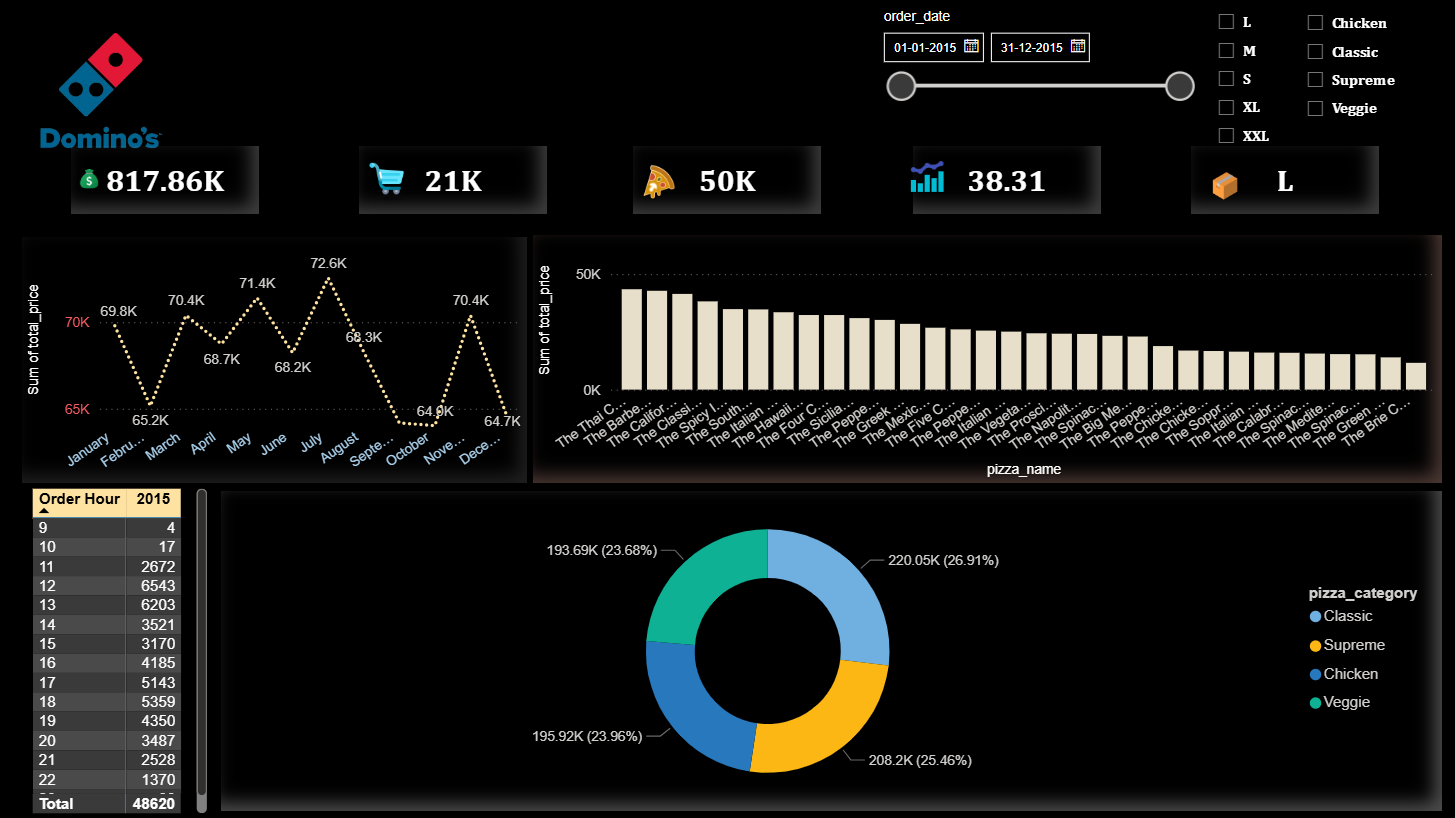

The dashboard page shown, as its layout file describes it:
{"tool":"powerbi","page":{"name":"Page 1","canvas":[1280,720],"ordinal":0},"visuals":[{"type":"image","box":[0,0,180.9,164.2],"z":0},{"type":"slicer","fields":{"Values":["pizza_sales (1).pizza_category"]},"box":[1137.1,3.5,121.2,122],"z":1000},{"type":"slicer","fields":{"Values":["pizza_sales (1).order_date"]},"box":[764.8,3.5,294.1,94.8],"z":2000},{"type":"slicer","fields":{"Values":["pizza_sales (1).pizza_size"]},"box":[1058.9,2.6,78.1,135.2],"z":3000},{"type":"card","fields":{"Values":["pizza_sales (1).Total Sales"]},"box":[64.1,129.1,165.1,59.7],"z":4000},{"type":"image","box":[64.1,140.5,31.6,36.9],"z":5000},{"type":"card","fields":{"Values":["pizza_sales (1).Total Orders"]},"box":[317,129.1,165.1,59.7],"z":6000},{"type":"card","fields":{"Values":["pizza_sales (1).Total Pizzas Sold"]},"box":[557.6,129.1,165.1,59.7],"z":7000},{"type":"card","fields":{"Values":["pizza_sales (1).Avg Order Value"]},"box":[803.4,129.1,165.1,59.7],"z":8000},{"type":"card","fields":{"Values":["pizza_sales (1).Most Popular Size"]},"box":[1047.5,129.1,165.1,59.7],"z":9000},{"type":"image","box":[317,136.1,50.9,45.7],"z":10000},{"type":"image","box":[557.6,137.9,44.8,43.9],"z":11000},{"type":"image","box":[792.9,130.8,45.7,50.9],"z":12000},{"type":"image","box":[1055.4,144,43,39.5],"z":13000},{"type":"lineChart","fields":{"Category":["pizza_sales (1).order_date.Variation.Date Hierarchy.Month"],"Y":["Sum(pizza_sales (1).total_price)"]},"box":[21.1,209,442.5,216],"z":14000},{"type":"columnChart","fields":{"Category":["pizza_sales (1).pizza_name"],"Y":["Sum(pizza_sales (1).total_price)"]},"box":[469.8,207.2,798.1,217.8],"z":15000},{"type":"pivotTable","fields":{"Values":["CountNonNull(pizza_sales (1).order_id)"],"Rows":["pizza_sales (1).Order Hour"],"Columns":["pizza_sales (1).order_date.Variation.Date Hierarchy.Year"]},"box":[25.5,425,163.3,295],"z":16000},{"type":"donutChart","fields":{"Category":["pizza_sales (1).pizza_category"],"Y":["Sum(pizza_sales (1).total_price)"]},"box":[195.8,432,1072.1,281],"z":17000}]}

Visuals, with their boxes in screenshot pixels (x1, y1, x2, y2), scaled from the page's 1280x720 canvas onto the 1455x818 screenshot:
image: [x1=0, y1=0, x2=206, y2=187]
slicer - pizza_sales (1).pizza_category: [x1=1293, y1=4, x2=1430, y2=143]
slicer - pizza_sales (1).order_date: [x1=869, y1=4, x2=1204, y2=112]
slicer - pizza_sales (1).pizza_size: [x1=1204, y1=3, x2=1292, y2=157]
card - pizza_sales (1).Total Sales: [x1=73, y1=147, x2=261, y2=214]
image: [x1=73, y1=160, x2=109, y2=202]
card - pizza_sales (1).Total Orders: [x1=360, y1=147, x2=548, y2=214]
card - pizza_sales (1).Total Pizzas Sold: [x1=634, y1=147, x2=822, y2=214]
card - pizza_sales (1).Avg Order Value: [x1=913, y1=147, x2=1101, y2=214]
card - pizza_sales (1).Most Popular Size: [x1=1191, y1=147, x2=1378, y2=214]
image: [x1=360, y1=155, x2=418, y2=207]
image: [x1=634, y1=157, x2=685, y2=207]
image: [x1=901, y1=149, x2=953, y2=206]
image: [x1=1200, y1=164, x2=1249, y2=208]
lineChart - pizza_sales (1).order_date.Variation.Date Hierarchy.Month x Sum(pizza_sales (1).total_price): [x1=24, y1=237, x2=527, y2=483]
columnChart - pizza_sales (1).pizza_name x Sum(pizza_sales (1).total_price): [x1=534, y1=235, x2=1441, y2=483]
pivotTable - CountNonNull(pizza_sales (1).order_id) x pizza_sales (1).Order Hour: [x1=29, y1=483, x2=215, y2=817]
donutChart - pizza_sales (1).pizza_category x Sum(pizza_sales (1).total_price): [x1=223, y1=491, x2=1441, y2=810]
